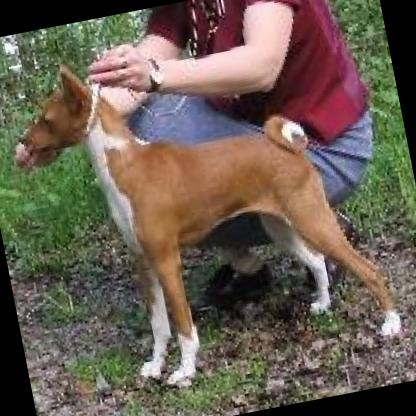basenji: (0, 4, 404, 409)
